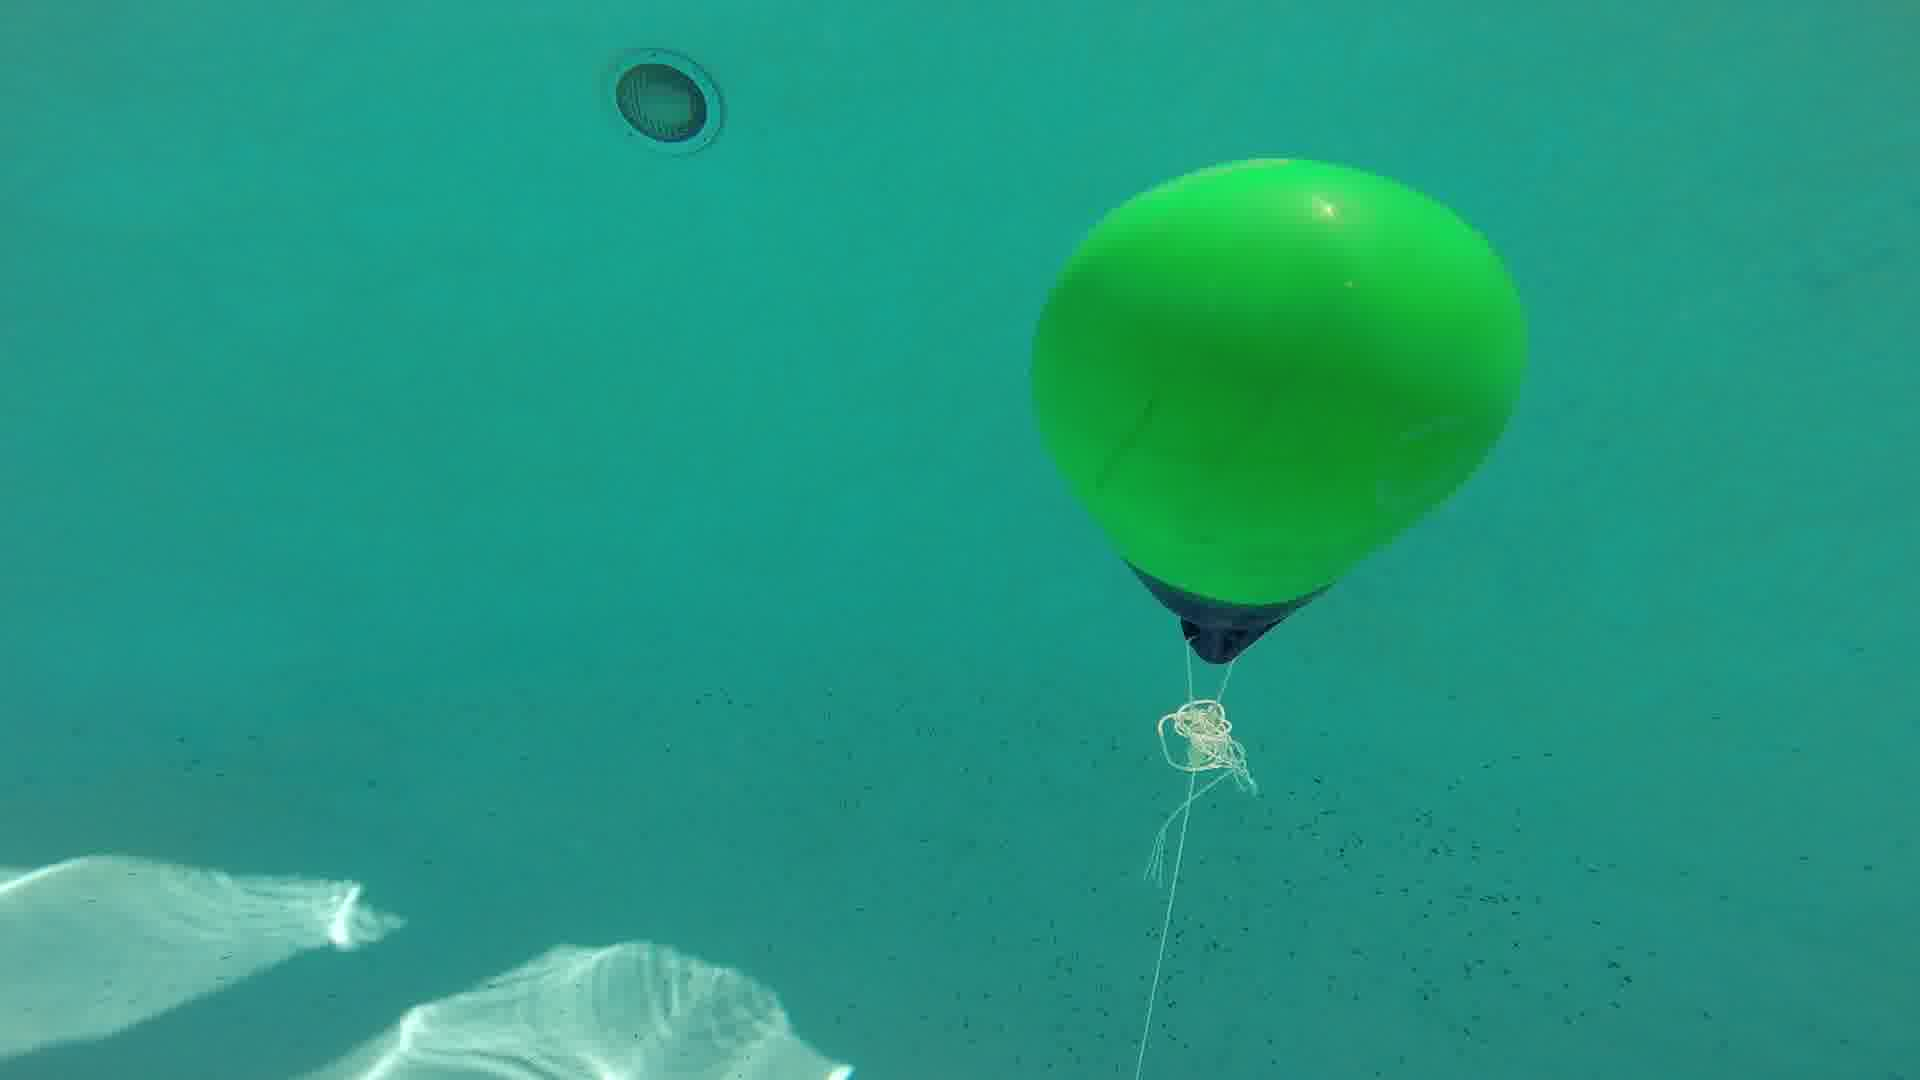yellow_buoy: (1009, 148, 1538, 676)
